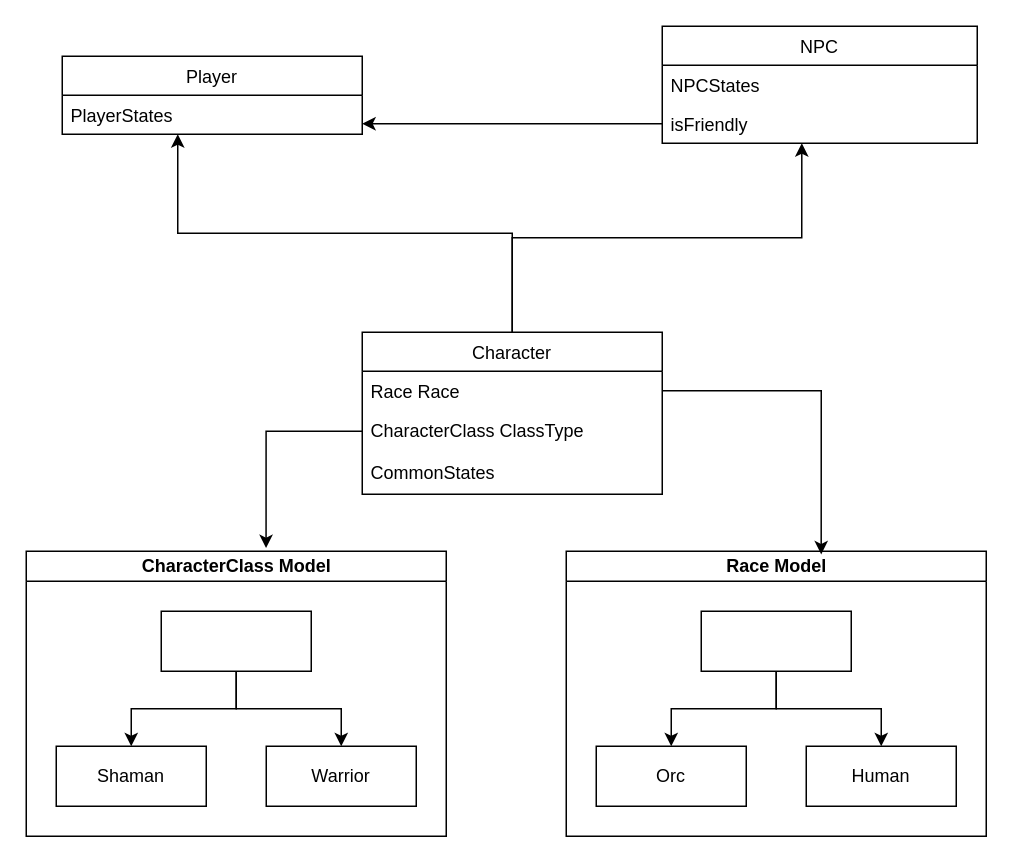
Image size: 1013x863. Some labels were removed from this diagram. The centre of each missing label's shape, as x and y in pixels:
"CharacterClass" goes at (235,640).
"Race" goes at (775,640).
